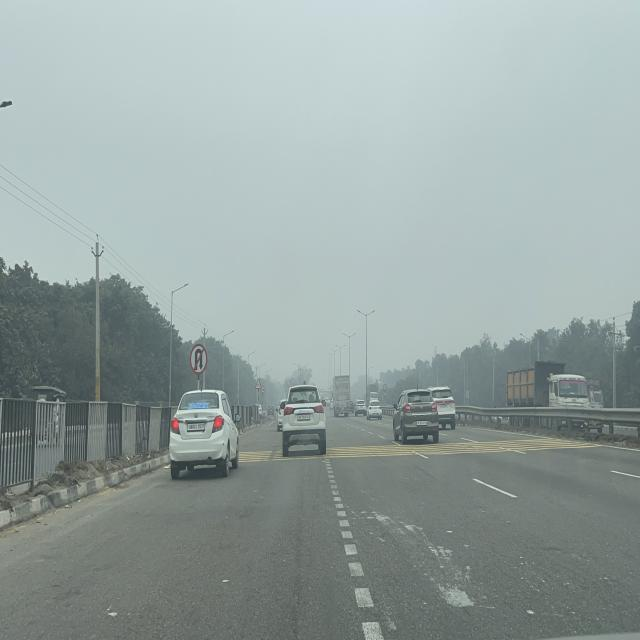SPEED_LIMIT_40: (261, 386, 265, 394)
U_TURN_PROHIBITED: (190, 343, 208, 376)
WARNING: (255, 378, 262, 389)
